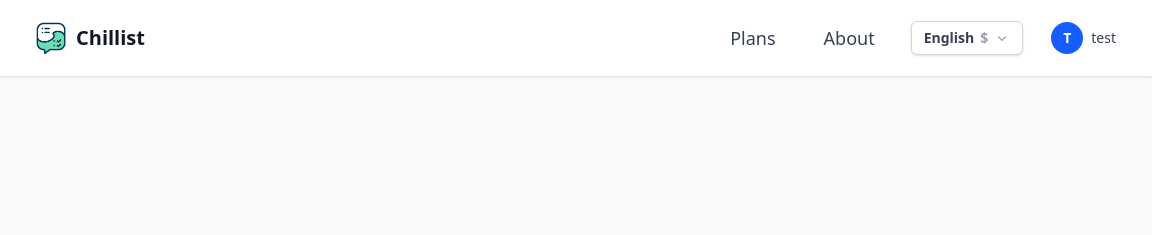
Test: Header › authenticated - user dropdown › closes dropdown after clicking Sign Out
What coordinates should you click on to do the following:
click the button with aria-label "User menu"
I would click on:
 (1084, 38)
Its box is [1047,18,1120,58].
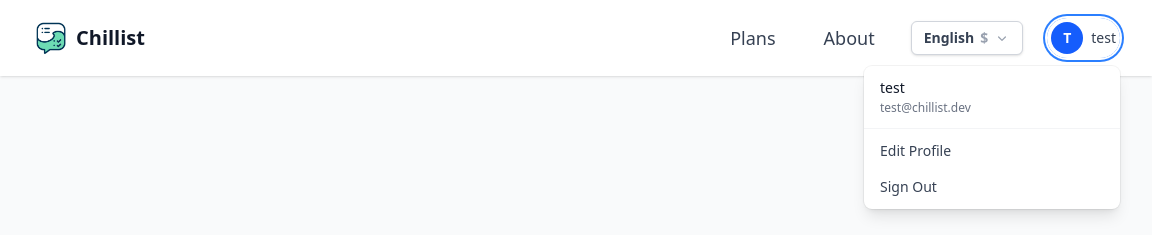
Check: the text "test@chillist.dev" is shown, box [880,99,971,116]
What coordinates should you click on to do the following:
click the button "Sign Out"
I would click on:
 (992, 187)
Its box is [864,169,1120,205].
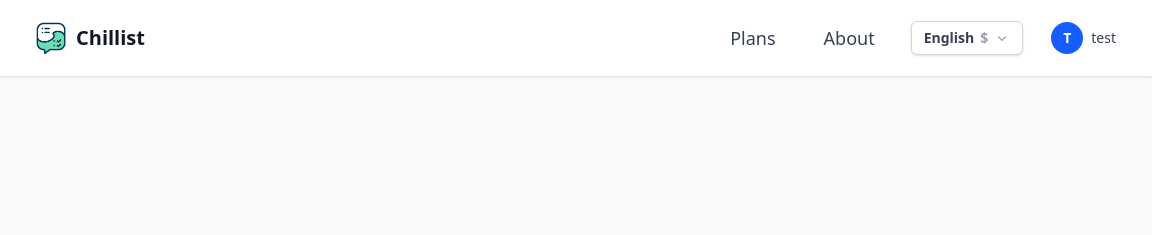
Check: the text with test id "menu-email" is gone
